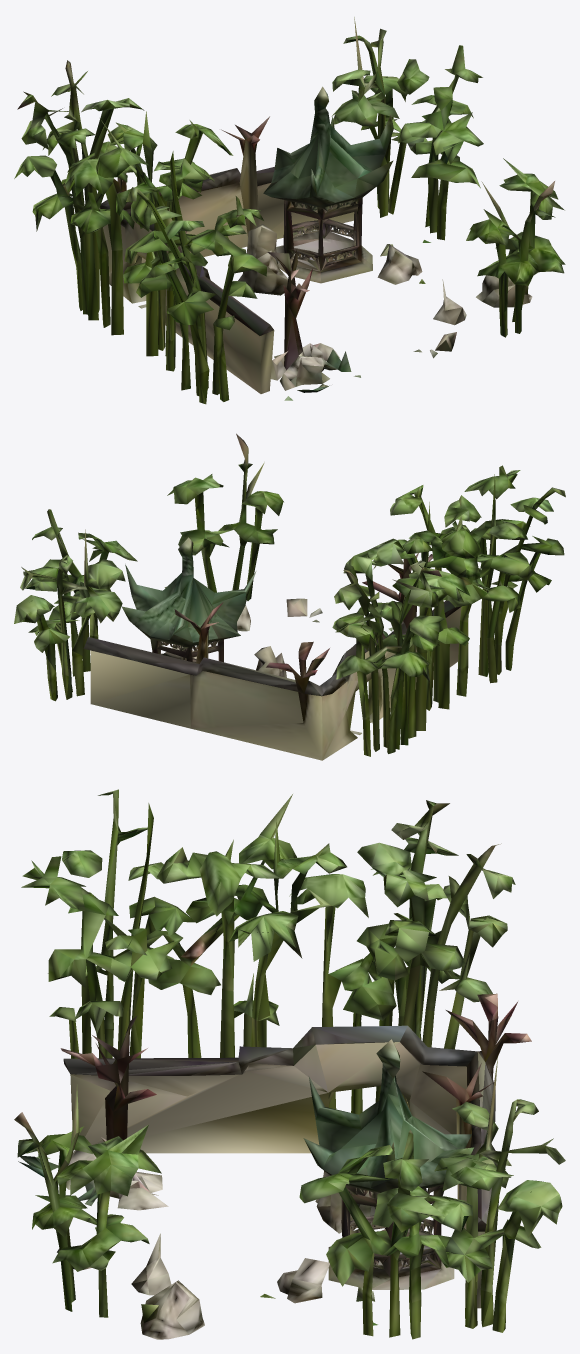
File: jiangnan.glb
The picture shows the model from 3 angles, top to bottom: view 1: azimuth 30°, elevation 25°; view 2: azimuth 150°, elevation 25°; view 3: azimuth 270°, elevation 25°; orthographic projection. The views are drawn at different scales.
Parts seen in each view (by area): view 1: tripo_node_24e723c5-8cd3-4383-9d5a-3a0bb30d6454; view 2: tripo_node_24e723c5-8cd3-4383-9d5a-3a0bb30d6454; view 3: tripo_node_24e723c5-8cd3-4383-9d5a-3a0bb30d6454.
Part boxes in pixels (<box>): tripo_node_24e723c5-8cd3-4383-9d5a-3a0bb30d6454: <box>14,17,565,404</box>; tripo_node_24e723c5-8cd3-4383-9d5a-3a0bb30d6454: <box>14,433,565,760</box>; tripo_node_24e723c5-8cd3-4383-9d5a-3a0bb30d6454: <box>14,789,565,1339</box>.
Bounding box in the file's own units: 25.57 × 12.31 × 20.02.
Materials: 1 (1 with a texture image).
